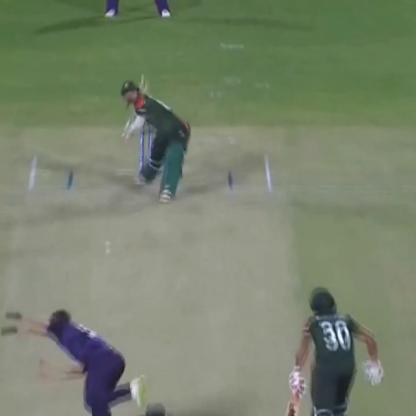ball: (102, 246, 114, 258), (100, 239, 114, 246)
bat: (280, 372, 312, 416), (132, 70, 149, 95)
pitch: (4, 144, 292, 416)
